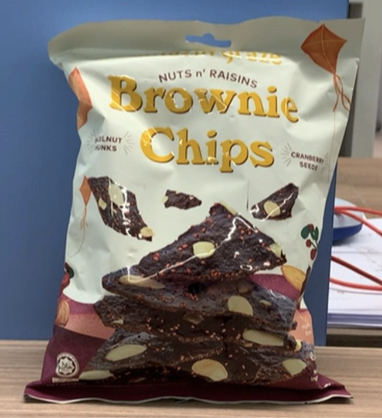crackers_150g: (51, 74, 317, 395)
